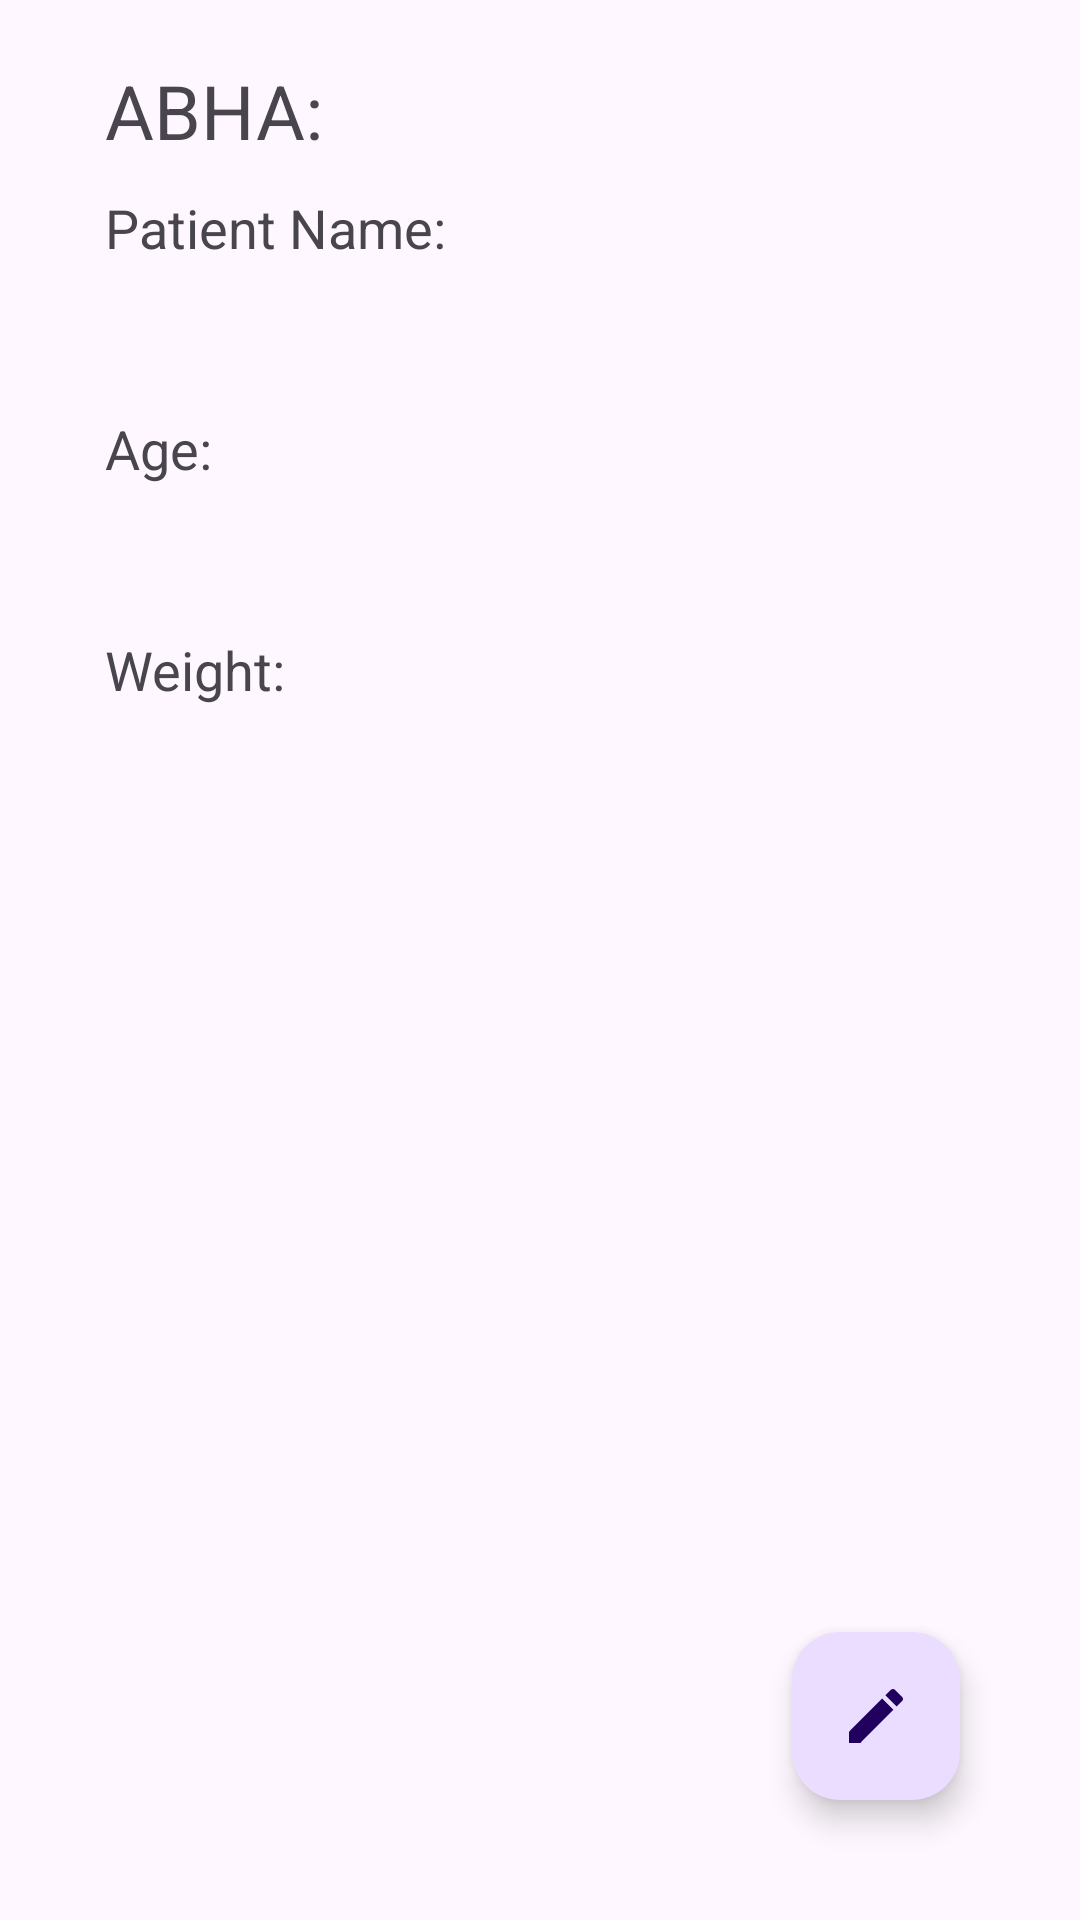

Named icons in this screenshot (1080px×1920px) and their bounding boxes, bbox(x1, y1, x2, y2):
pencil: bbox(792, 1632, 960, 1800)
